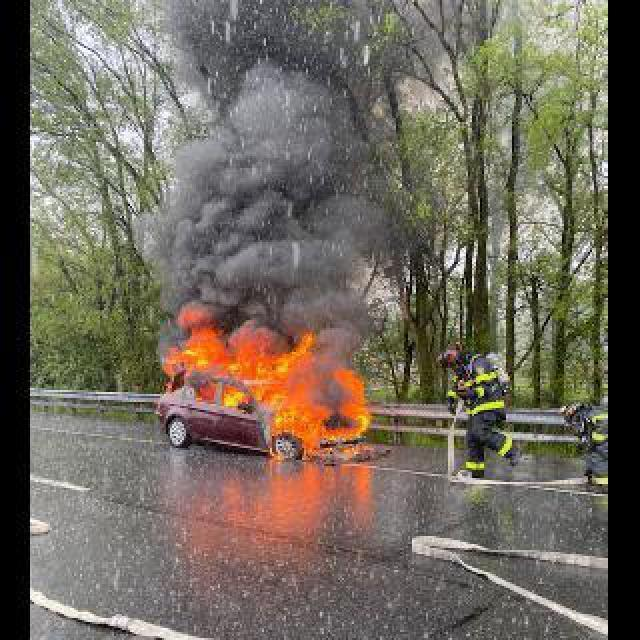Fire: (164, 304, 372, 460)
Smoke: (138, 75, 404, 356)
